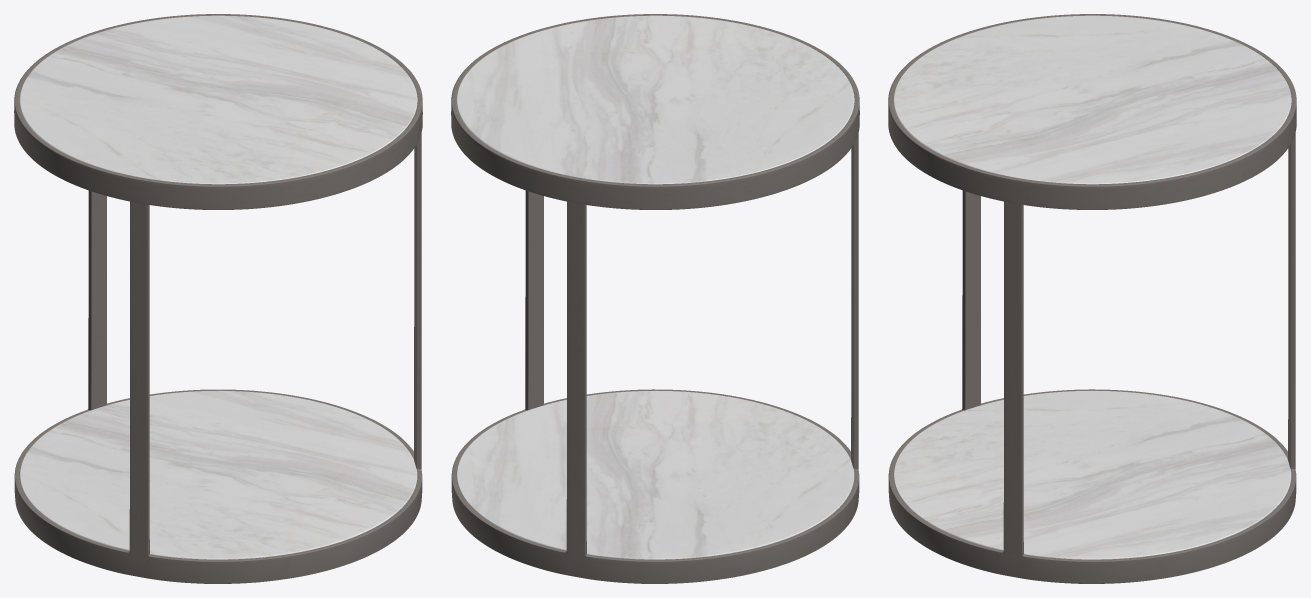
The model's file is molly_round_marble_side_table.glb.
The picture shows the model from 3 angles, left to right: view 1: azimuth 30°, elevation 25°; view 2: azimuth 150°, elevation 25°; view 3: azimuth 270°, elevation 25°; orthographic projection.
Visible parts, largest first — view 1: RootNode; view 2: RootNode; view 3: RootNode.
Part boxes in pixels (x1,y1,x2,y2): RootNode: (14, 14, 422, 583); RootNode: (451, 14, 859, 583); RootNode: (888, 14, 1296, 583).
Size of the model in its own units: 0.445 by 0.4792 by 0.445.
Materials: 1 (1 with a texture image).
